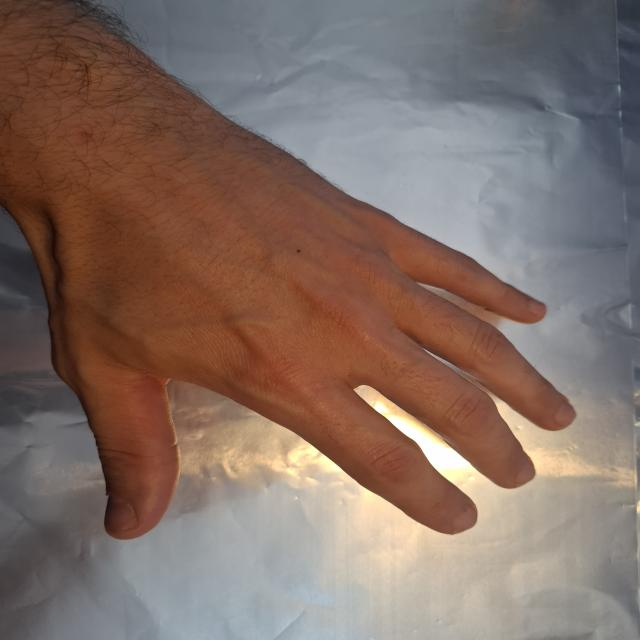glove_off: (8, 130, 583, 541)
